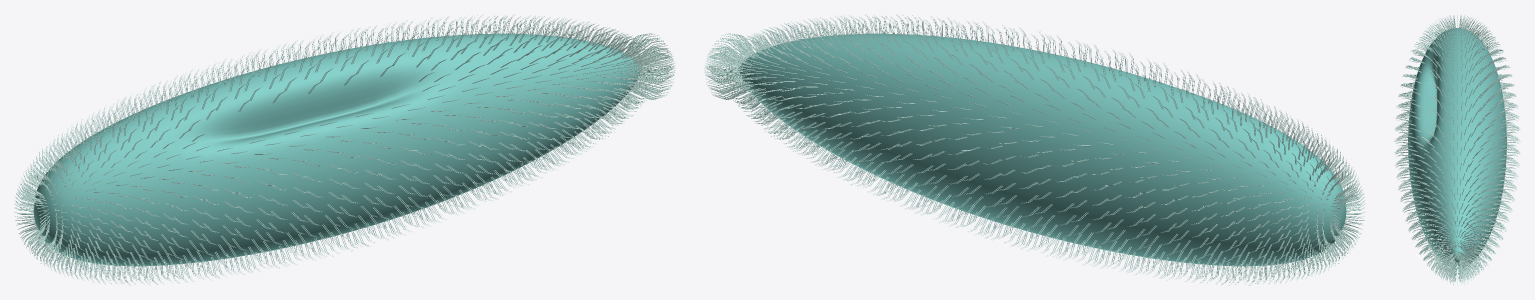
The model's file is micro3d-paramecium.glb.
3 renders of one model, left to right at view 1: azimuth 30°, elevation 25°; view 2: azimuth 150°, elevation 25°; view 3: azimuth 270°, elevation 25°, orthographic. The views are drawn at different scales.
Visible parts, largest first — view 1: Slipper-shaped pellicle with oral groove, Paired cilia; static authored beat pose; view 2: Slipper-shaped pellicle with oral groove, Paired cilia; static authored beat pose; view 3: Slipper-shaped pellicle with oral groove, Paired cilia; static authored beat pose.
Part boxes in pixels (<box>): Slipper-shaped pellicle with oral groove: <box>33,33,640,266</box>; Paired cilia; static authored beat pose: <box>14,14,675,285</box>; Slipper-shaped pellicle with oral groove: <box>739,33,1346,266</box>; Paired cilia; static authored beat pose: <box>704,14,1365,285</box>; Slipper-shaped pellicle with oral groove: <box>1408,28,1506,268</box>; Paired cilia; static authored beat pose: <box>1394,14,1520,285</box>.
Bounding box in the file's own units: 267 × 82.64 × 64.45.
